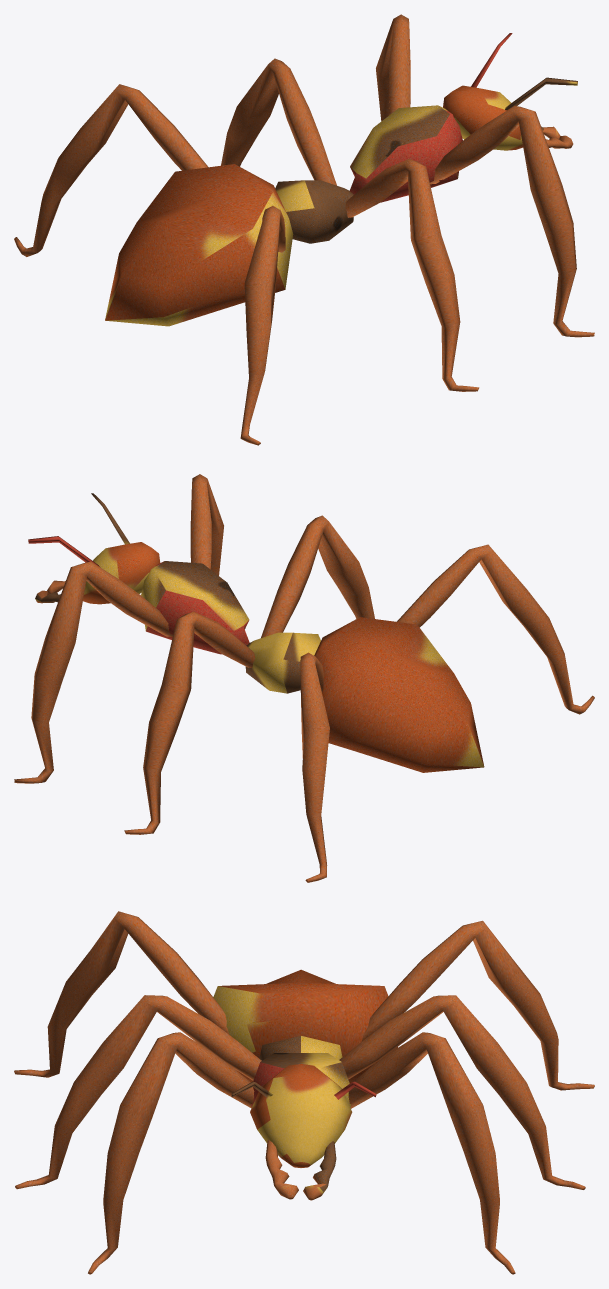
Rendered from giant_ant.obj.
The picture shows the model from 3 angles, top to bottom: view 1: azimuth 30°, elevation 25°; view 2: azimuth 150°, elevation 25°; view 3: azimuth 270°, elevation 25°; orthographic projection. The views are drawn at different scales.
Parts seen in each view (by area): view 1: Tail_Cube.004, RFLeg_Cylinder.003, RMLeg_Cylinder.012, LRLeg_Cylinder.019, Chest_Cube.001, LMLeg_Cylinder.018, RRLeg_Cylinder.013, Abs_Cube.003, LFLeg_Cylinder.017, Head_Sphere.001; view 2: Tail_Cube.004, LFLeg_Cylinder.017, LMLeg_Cylinder.018, RRLeg_Cylinder.013, Chest_Cube.001, RMLeg_Cylinder.012, LRLeg_Cylinder.019, Abs_Cube.003, RFLeg_Cylinder.003, Head_Sphere.001; view 3: Tail_Cube.004, RFLeg_Cylinder.003, LFLeg_Cylinder.017, LMLeg_Cylinder.018, RMLeg_Cylinder.012, LRLeg_Cylinder.019, RRLeg_Cylinder.013, Head_Sphere.001, Chest_Cube.001, Abs_Cube.003, RJaw_Cylinder.010, LJaw_Cylinder.011.
Boxes of the visible parts, box(x1,y1,x2,y2) form: Tail_Cube.004: box(105, 164, 293, 326); RFLeg_Cylinder.003: box(430, 105, 594, 337); RMLeg_Cylinder.012: box(345, 159, 479, 391); LRLeg_Cylinder.019: box(14, 84, 208, 256); Chest_Cube.001: box(349, 105, 462, 202); LMLeg_Cylinder.018: box(221, 58, 336, 185); RRLeg_Cylinder.013: box(240, 206, 285, 445); Abs_Cube.003: box(275, 180, 353, 243); LFLeg_Cylinder.017: box(376, 14, 410, 120); Head_Sphere.001: box(443, 85, 523, 150); Tail_Cube.004: box(314, 617, 484, 772); LFLeg_Cylinder.017: box(14, 561, 172, 783); LMLeg_Cylinder.018: box(124, 611, 254, 834); RRLeg_Cylinder.013: box(397, 544, 594, 714); Chest_Cube.001: box(141, 561, 249, 654); RMLeg_Cylinder.012: box(261, 515, 374, 637); LRLeg_Cylinder.019: box(300, 652, 329, 882); Abs_Cube.003: box(245, 632, 320, 693); RFLeg_Cylinder.003: box(190, 474, 223, 575); Head_Sphere.001: box(83, 542, 160, 604); Tail_Cube.004: box(213, 969, 397, 1083); RFLeg_Cylinder.003: box(88, 1032, 254, 1274); LFLeg_Cylinder.017: box(348, 1032, 515, 1274); LMLeg_Cylinder.018: box(339, 995, 585, 1189); RMLeg_Cylinder.012: box(15, 995, 261, 1189); LRLeg_Cylinder.019: box(361, 920, 594, 1090); RRLeg_Cylinder.013: box(14, 911, 229, 1077); Head_Sphere.001: box(250, 1064, 352, 1167); Chest_Cube.001: box(251, 1053, 350, 1107); Abs_Cube.003: box(259, 1036, 342, 1060); RJaw_Cylinder.010: box(265, 1140, 298, 1199); LJaw_Cylinder.011: box(303, 1141, 336, 1200).
Bounding box in the file's own units: 1.16 × 0.5003 × 1.18.
